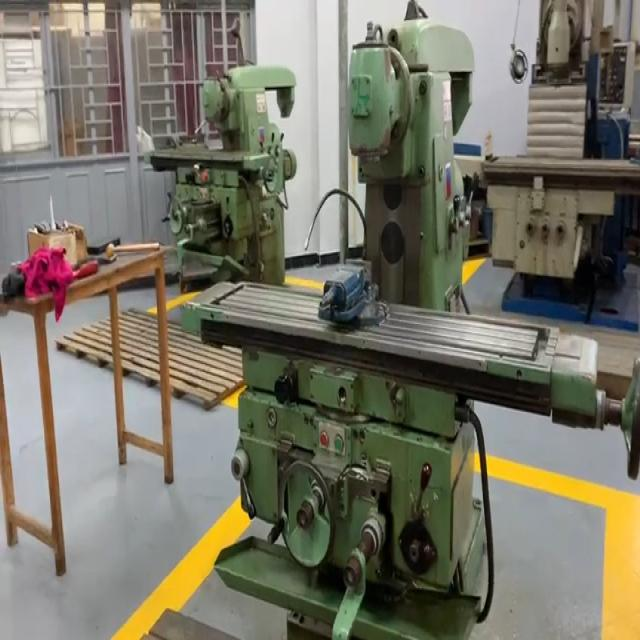fraiseuse: (190, 17, 640, 640)
